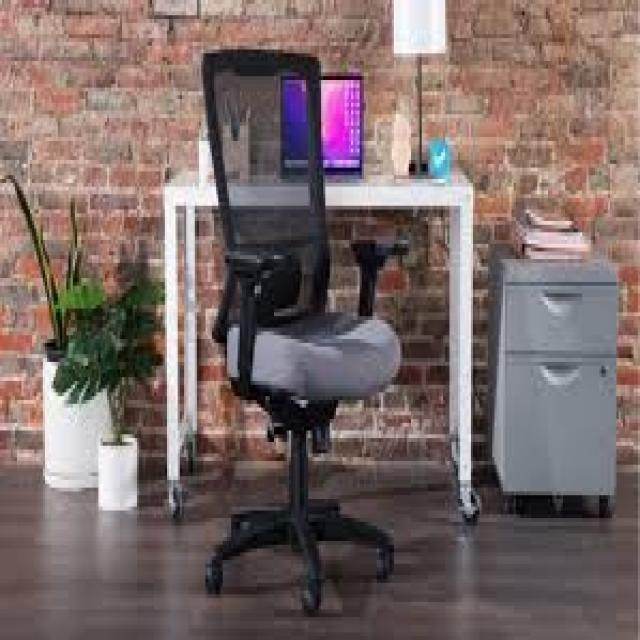chair: (160, 21, 418, 636)
